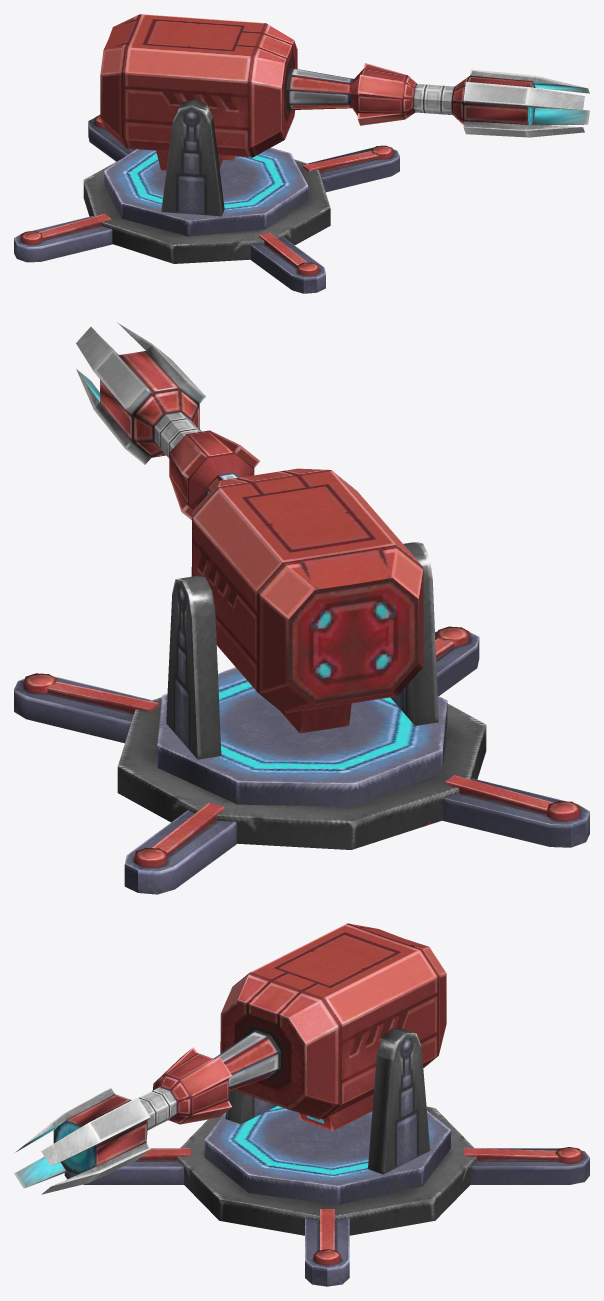
3 renders of one model, top to bottom at view 1: azimuth 30°, elevation 25°; view 2: azimuth 150°, elevation 25°; view 3: azimuth 270°, elevation 25°, orthographic. The views are drawn at different scales.
Parts seen in each view (by area): view 1: tower21, tower22; view 2: tower21, tower22; view 3: tower21, tower22.
Part boxes in pixels (x1,y1,x2,y2): tower21: (100, 14, 589, 236); tower22: (14, 115, 399, 293); tower21: (76, 322, 447, 806); tower22: (14, 626, 589, 894); tower21: (14, 923, 451, 1204); tower22: (64, 1106, 589, 1286).
Size of the model in its own units: 13.74 by 5.05 by 12.54.
1 material, 1 textured.
